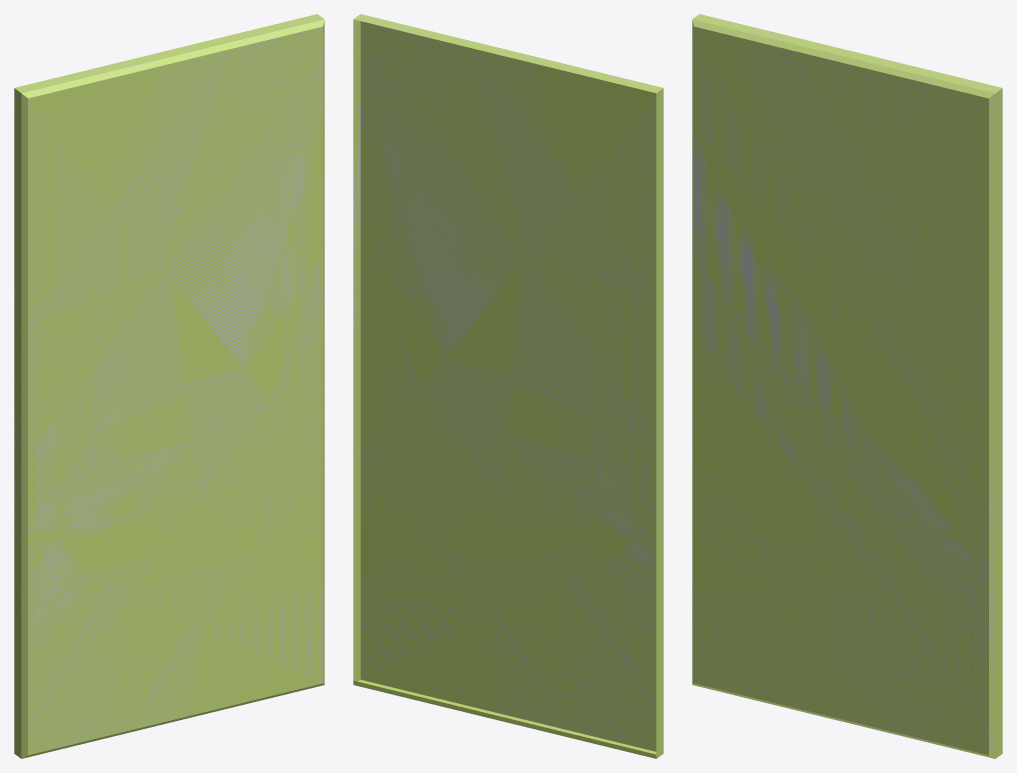
Rendered from board.dae.
3 renders of one model, left to right at view 1: azimuth 30°, elevation 25°; view 2: azimuth 150°, elevation 25°; view 3: azimuth 330°, elevation 25°, orthographic.
Visible parts, largest first — view 1: SketchUp.012, SketchUp.011; view 2: SketchUp.012, SketchUp.011; view 3: SketchUp.012, SketchUp.011.
Boxes of the visible parts, x1,y1,x2,y2 form: SketchUp.012: (14, 14, 324, 758); SketchUp.011: (14, 538, 21, 758); SketchUp.012: (353, 14, 663, 751); SketchUp.011: (353, 464, 663, 758); SketchUp.012: (692, 14, 1002, 758); SketchUp.011: (995, 538, 1002, 758).
Bounding box in the file's own units: 0.9144 × 0.0509 × 1.92.
